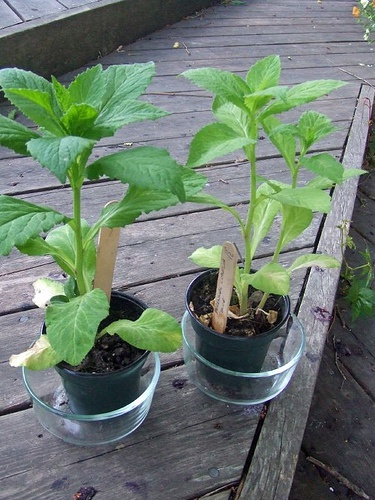flowerpot: (42, 292, 152, 415), (184, 268, 291, 388)
